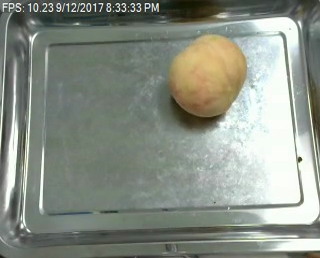Peach: (169, 31, 247, 117)
